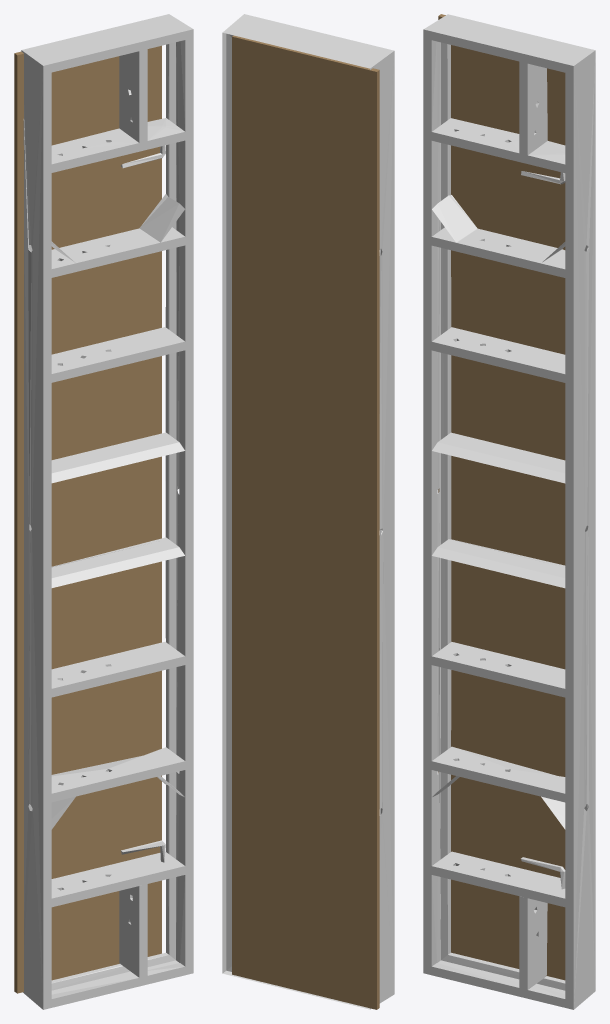
3 renders of one model, left to right at view 1: azimuth 30°, elevation 25°; view 2: azimuth 150°, elevation 25°; view 3: azimuth 330°, elevation 25°, orthographic.
Parts seen in each view (by area): view 1: 27454206; view 2: 27454206; view 3: 27454206.
Part boxes in pixels (left/top/right/bottom): 27454206: left=14, top=14, right=193, bottom=1009; 27454206: left=222, top=14, right=394, bottom=1009; 27454206: left=423, top=14, right=595, bottom=1009.
Size of the model in its own units: 0.4668 by 2.7 by 0.1205.
